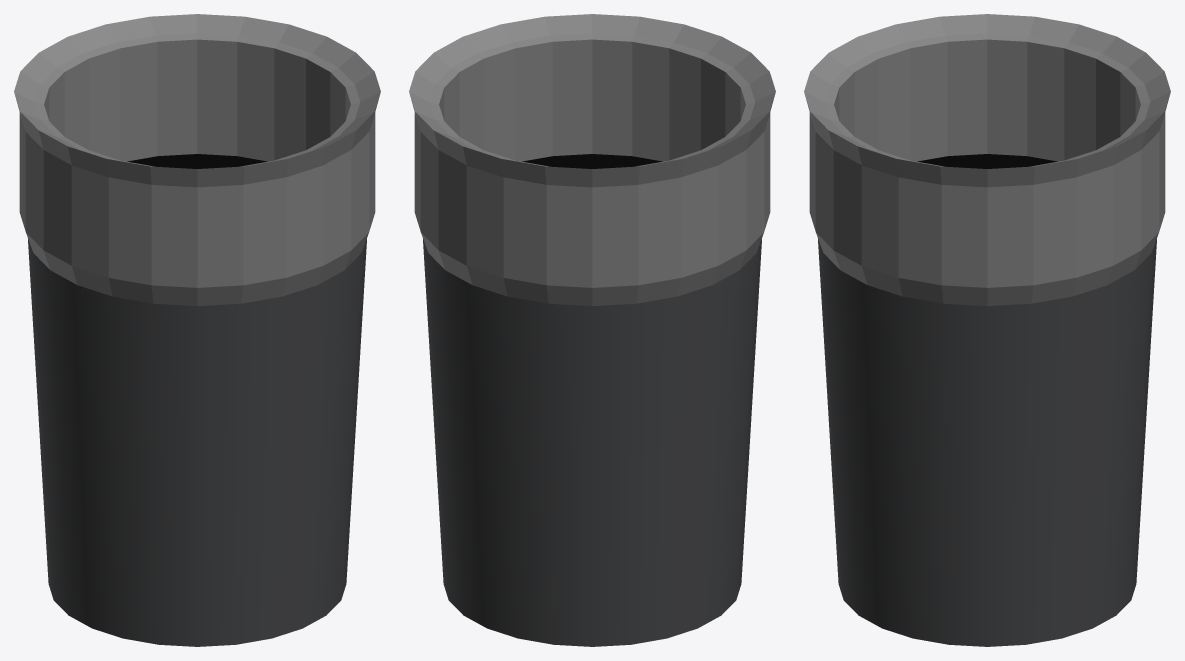
File: Bin Textured.FBX
The picture shows the model from 3 angles, left to right: view 1: azimuth 30°, elevation 25°; view 2: azimuth 150°, elevation 25°; view 3: azimuth 270°, elevation 25°; orthographic projection.
Parts seen in each view (by area): view 1: Bin; view 2: Bin; view 3: Bin.
Boxes of the visible parts, x1,y1,x2,y2 form: Bin: [14, 14, 380, 646]; Bin: [409, 14, 775, 646]; Bin: [804, 14, 1170, 646].
Bounding box in the file's own units: 3.66 × 5.42 × 3.66.
3 materials, 3 textured.
